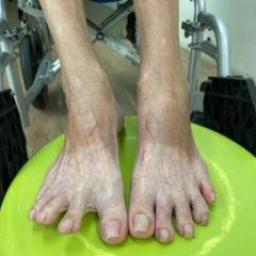Dorsal View -Both Feet-: (22, 54, 239, 251)
